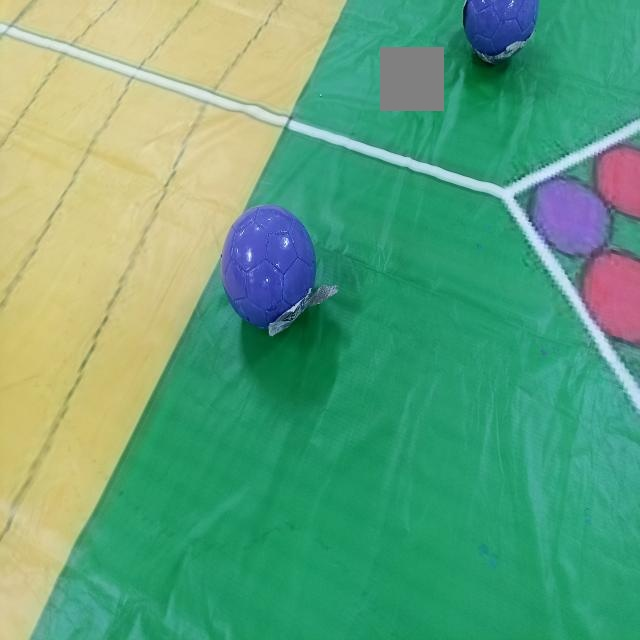purple_ball: (218, 202, 320, 348), (458, 1, 552, 66)
